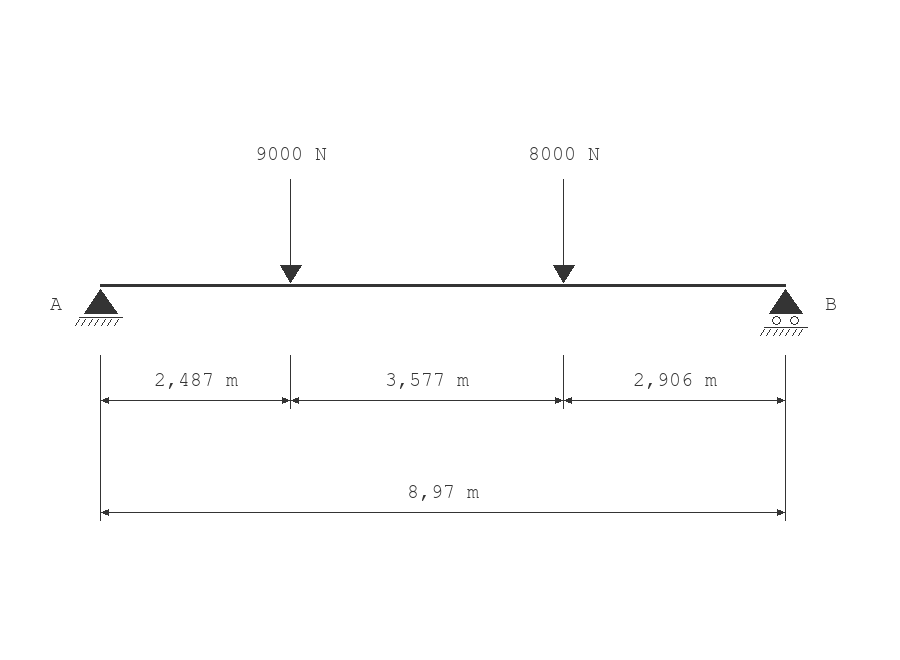pin_support: (75, 289, 123, 326)
point_load: (280, 179, 302, 283), (553, 179, 575, 283)
roller_support: (760, 289, 808, 336)
